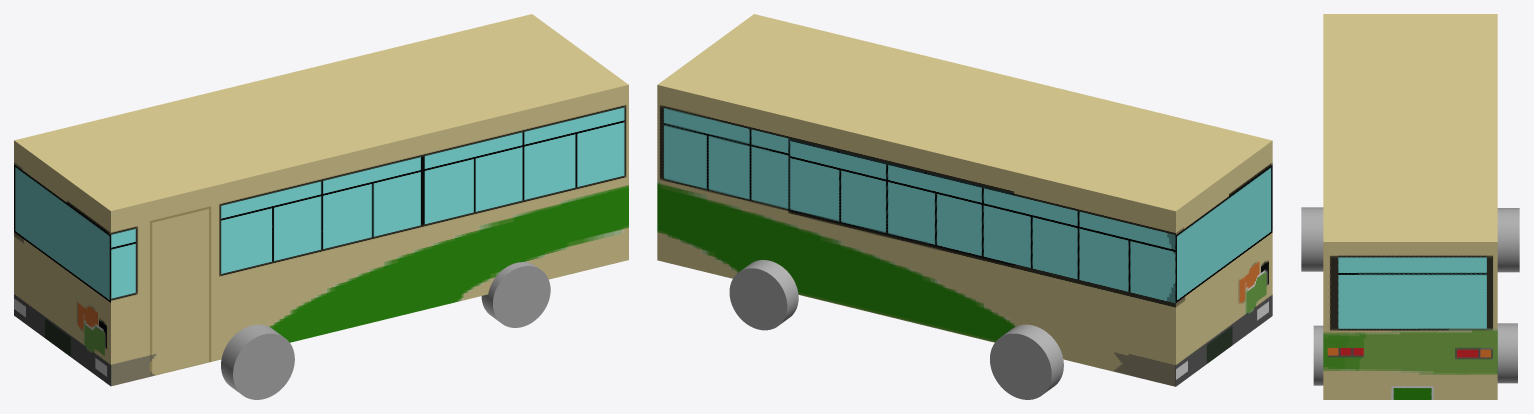
File: bus.glb
The picture shows the model from 3 angles, left to right: view 1: azimuth 30°, elevation 25°; view 2: azimuth 150°, elevation 25°; view 3: azimuth 270°, elevation 25°; orthographic projection. The views are drawn at different scales.
Visible parts, largest first — view 1: mesh_id30, mesh_id119, mesh_id112; view 2: mesh_id30, mesh_id125, mesh_id131; view 3: mesh_id30, mesh_id119, mesh_id125, mesh_id131, mesh_id112.
Part boxes in pixels (left/top/right/bottom): mesh_id30: left=14, top=14, right=628, bottom=386; mesh_id119: left=221, top=324, right=294, bottom=399; mesh_id112: left=481, top=262, right=550, bottom=327; mesh_id30: left=657, top=14, right=1272, bottom=386; mesh_id125: left=990, top=324, right=1063, bottom=399; mesh_id131: left=729, top=260, right=798, bottom=330; mesh_id30: left=1323, top=14, right=1497, bottom=399; mesh_id119: left=1301, top=207, right=1323, bottom=271; mesh_id125: left=1497, top=208, right=1519, bottom=272; mesh_id131: left=1497, top=323, right=1517, bottom=383; mesh_id112: left=1313, top=325, right=1323, bottom=385.
Size of the model in its own units: 0.2272 by 0.0895 by 0.0919.
2 materials, 2 textured.
